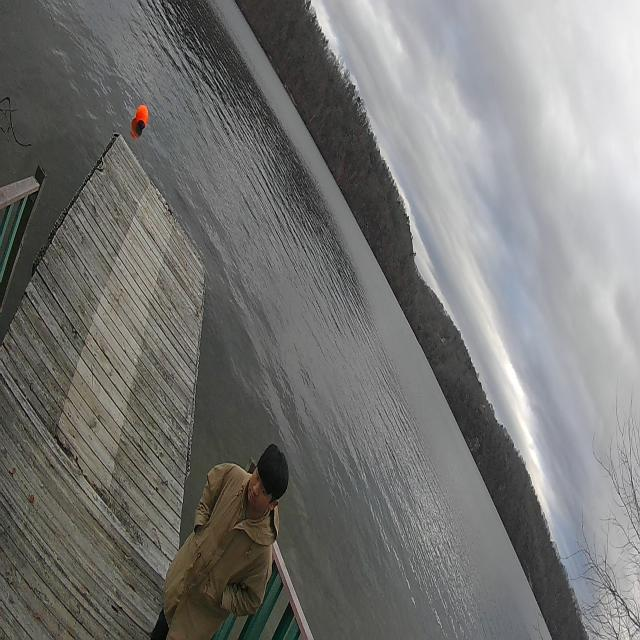Buoy: (131, 95, 151, 140)
